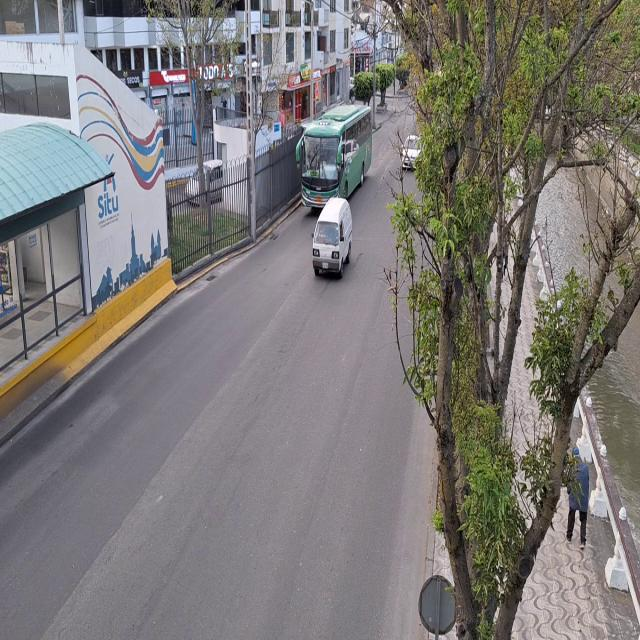BUS: (301, 108, 374, 211)
SUV: (311, 197, 353, 279)
